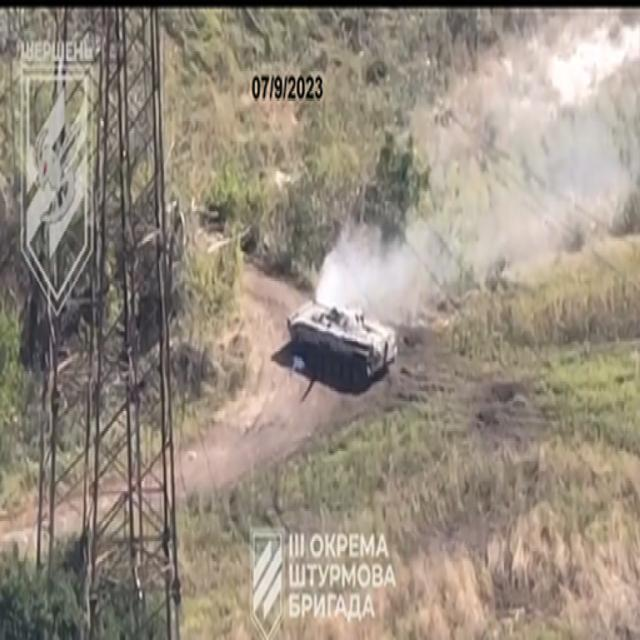APC-IFV: (280, 280, 396, 389)
